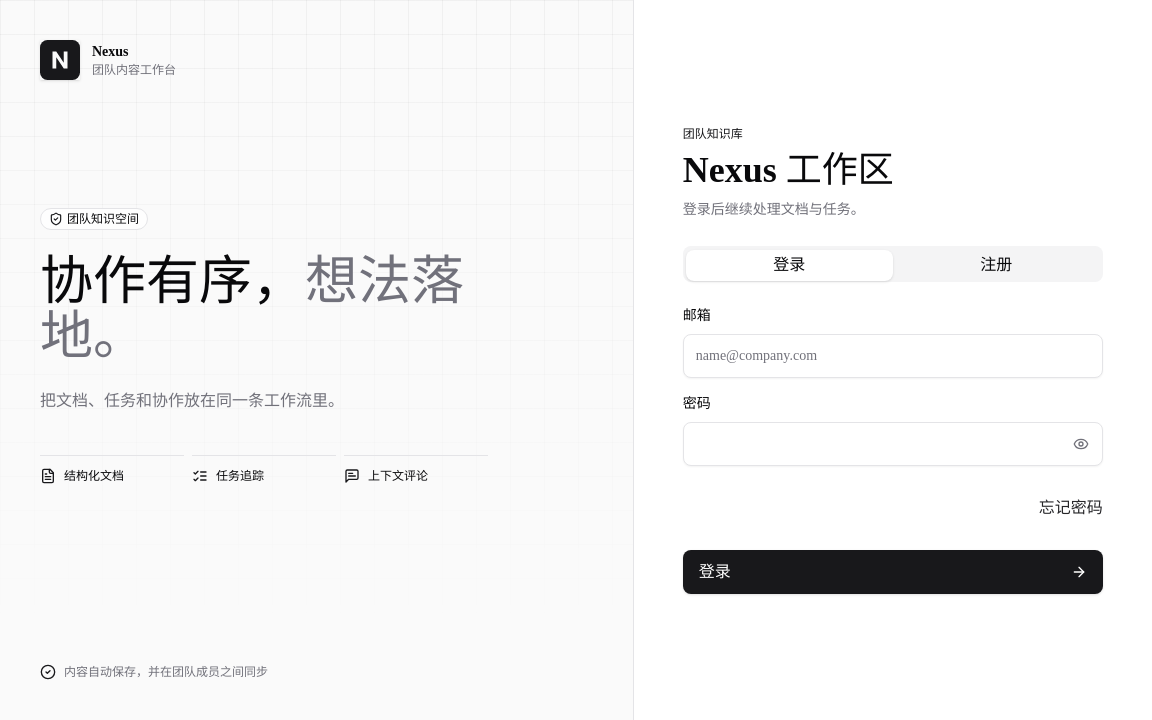
Test: EditorApp › explains when the authentication service returns an invalid response
In the field labelled "邮箱": (893, 356) [683, 334, 1103, 378], type "linxia@example.com"
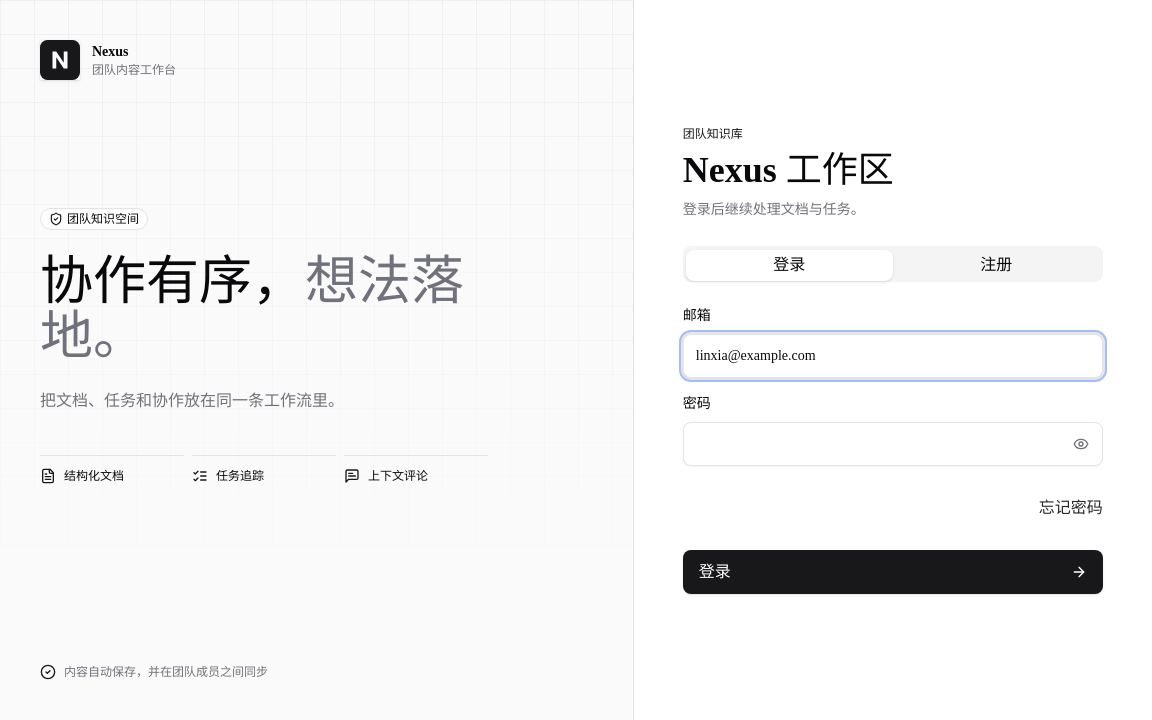
In the password field labelled "密码": (893, 444) [683, 422, 1103, 466], type "correct horse battery staple"
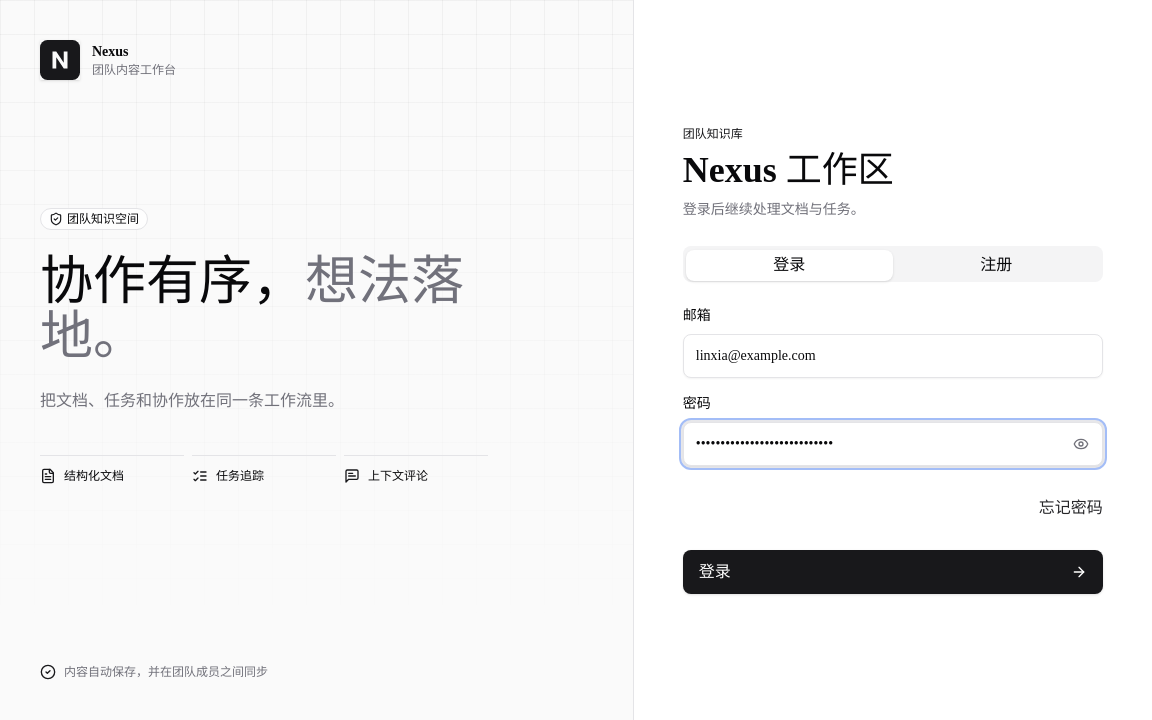
Click the button "登录": (715, 572) [683, 550, 1103, 594]
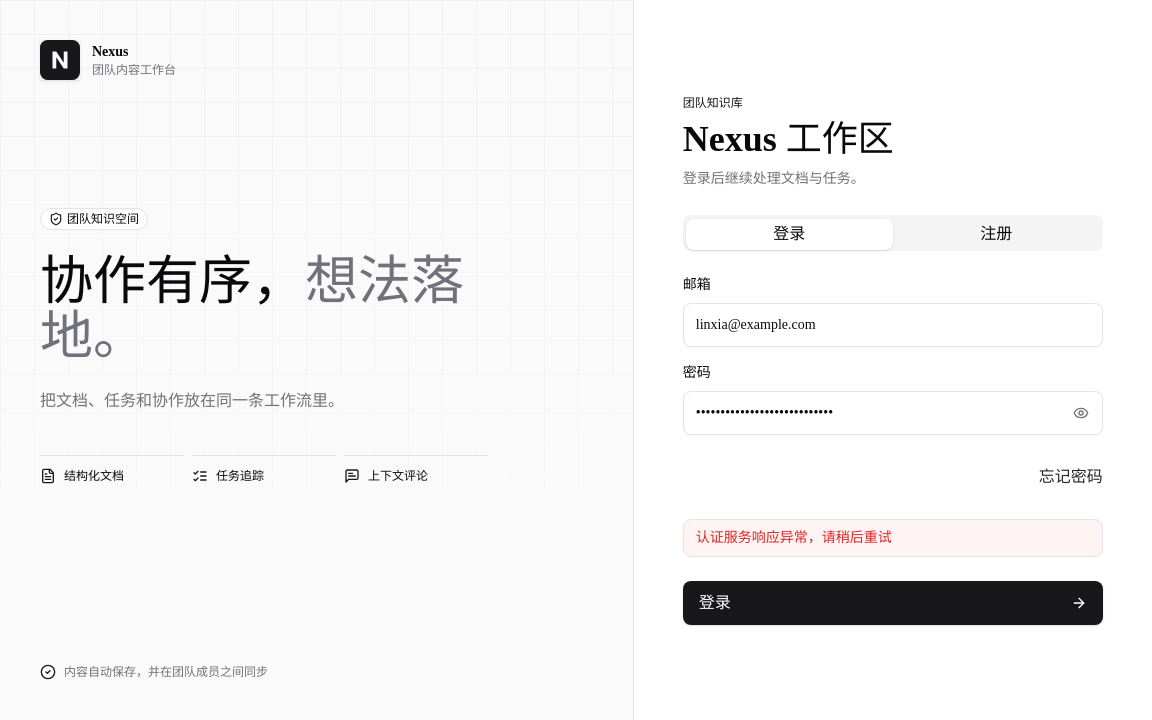
Check: the message reads "认证服务响应异常，请稍后重试", box [696, 530, 892, 545]
